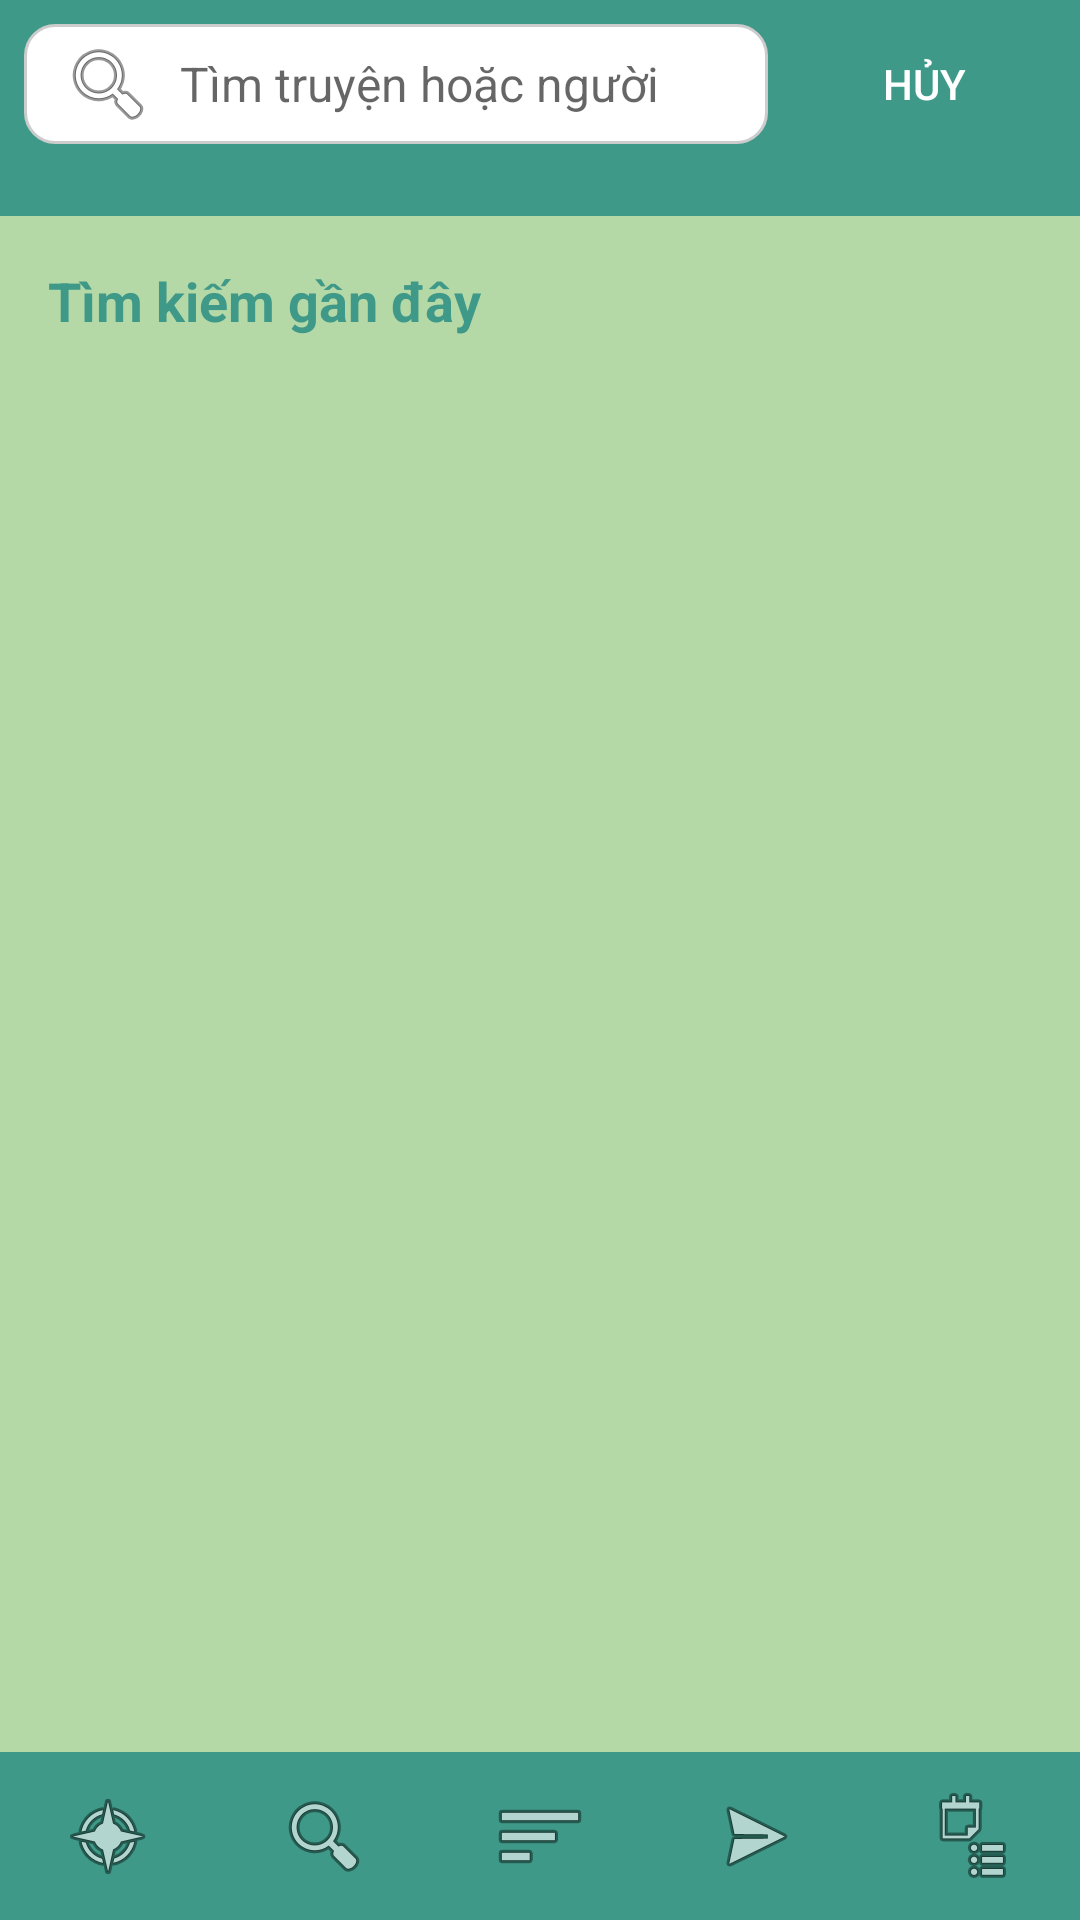

Named icons in this screenshot (1080px x 1920px) and their centers, (x=x, y=y):
agenda: (x=972, y=1835)
compass: (x=107, y=1836)
search: (x=324, y=1836)
send: (x=756, y=1836)
sort by size: (x=540, y=1836)
